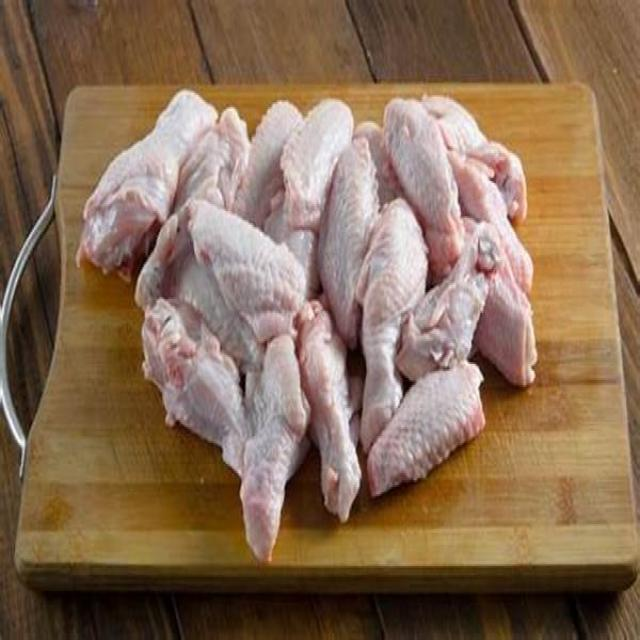chicken: (135, 199, 307, 371), (76, 90, 218, 280), (449, 149, 539, 386), (142, 297, 247, 477), (357, 197, 428, 451), (369, 360, 486, 497), (240, 334, 310, 562), (384, 98, 465, 282), (298, 301, 362, 522), (397, 232, 490, 382), (318, 137, 380, 347), (281, 98, 353, 231), (234, 100, 303, 228), (174, 107, 250, 210), (422, 95, 489, 154)
